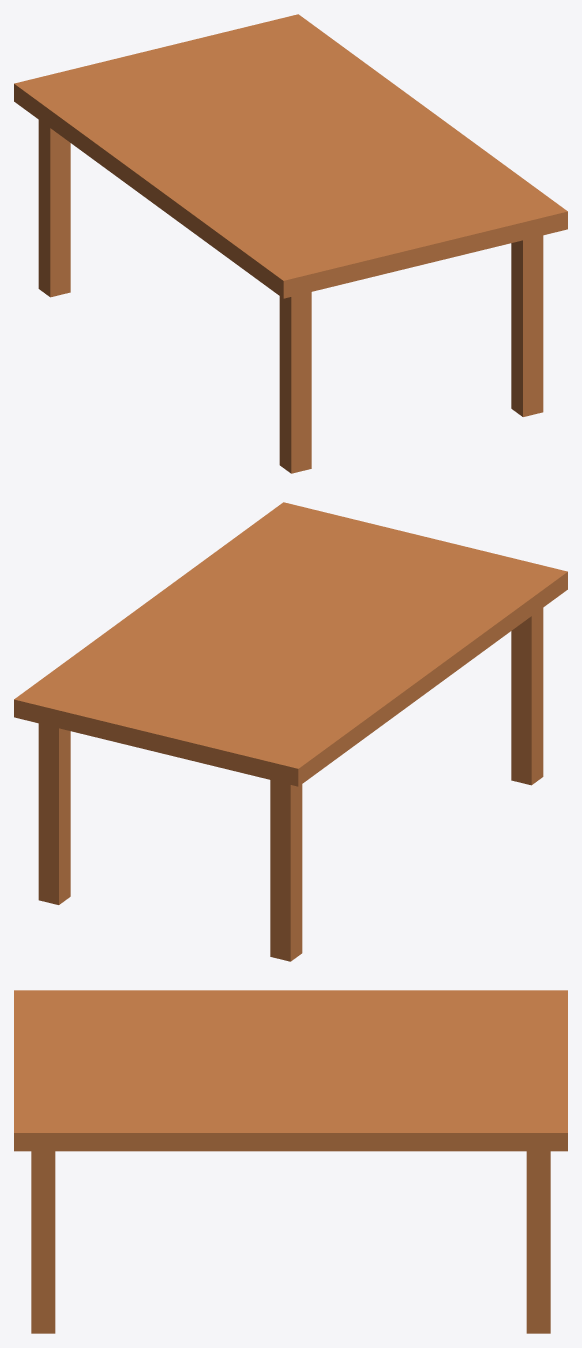
File: SM_Table_001.fbx
3 renders of one model, top to bottom at view 1: azimuth 30°, elevation 25°; view 2: azimuth 150°, elevation 25°; view 3: azimuth 270°, elevation 25°, orthographic. The views are drawn at different scales.
Visible parts, largest first — view 1: Table; view 2: Table; view 3: Table.
Part boxes in pixels (<box>): Table: <box>14,14,567,473</box>; Table: <box>14,502,567,961</box>; Table: <box>14,990,567,1333</box>.
Bounding box in the file's own units: 0.696 × 0.4747 × 1.14.
